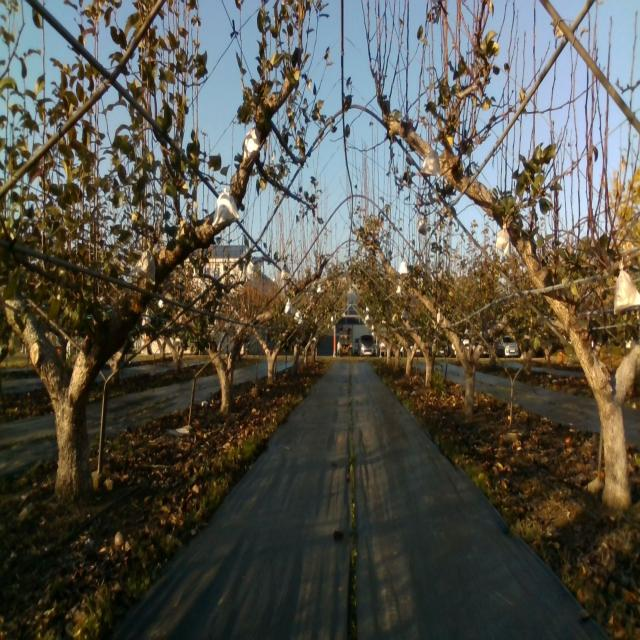pearbags: (611, 261, 640, 316), (212, 188, 240, 228), (132, 246, 156, 283), (494, 222, 512, 260), (243, 127, 261, 162), (420, 150, 441, 178)
